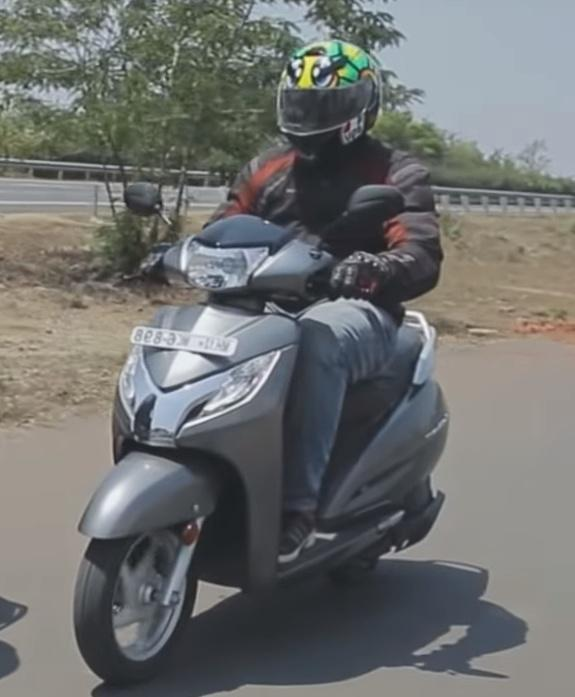helmet: (275, 39, 382, 156)
